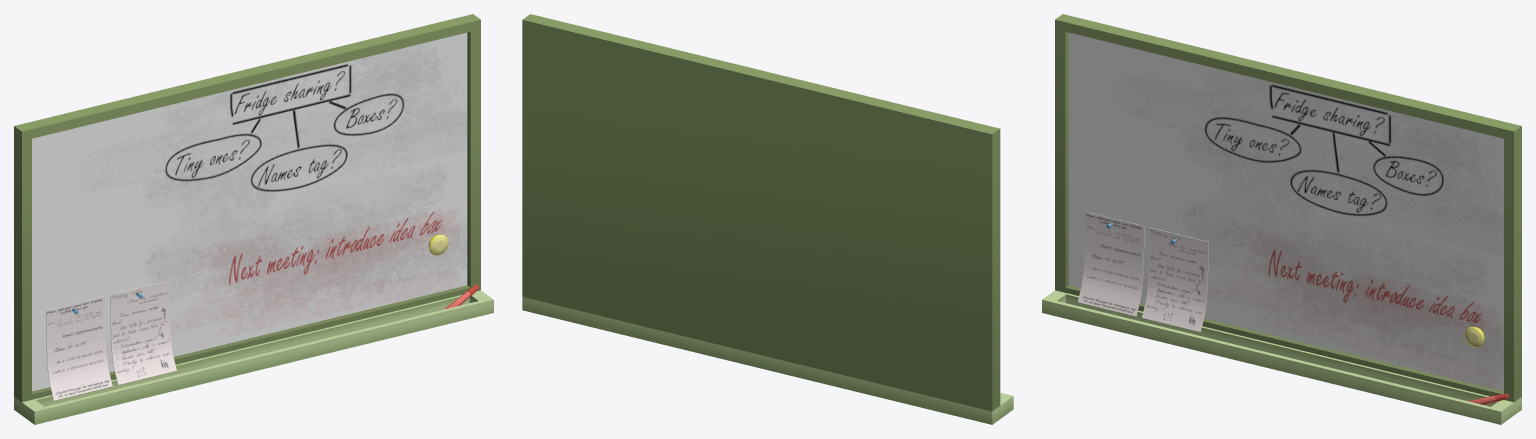
File: Whiteboard.FBX
3 views of the same model, side by side, from view 1: azimuth 30°, elevation 25°; view 2: azimuth 150°, elevation 25°; view 3: azimuth 330°, elevation 25° (orthographic). The views are drawn at different scales.
Visible parts, largest first — view 1: Whiteboard, Paper_2, Paper_1; view 2: Whiteboard; view 3: Whiteboard, Paper_2, Paper_1.
Boxes of the visible parts, left/top/right/bottom form: Whiteboard: left=14, top=14, right=493, bottom=424; Paper_2: left=110, top=280, right=176, bottom=384; Paper_1: left=46, top=296, right=112, bottom=400; Whiteboard: left=522, top=14, right=1013, bottom=424; Whiteboard: left=1042, top=14, right=1521, bottom=424; Paper_2: left=1142, top=227, right=1208, bottom=331; Paper_1: left=1077, top=211, right=1144, bottom=316.
Size of the model in its own units: 64.66 by 38.22 by 5.06.
